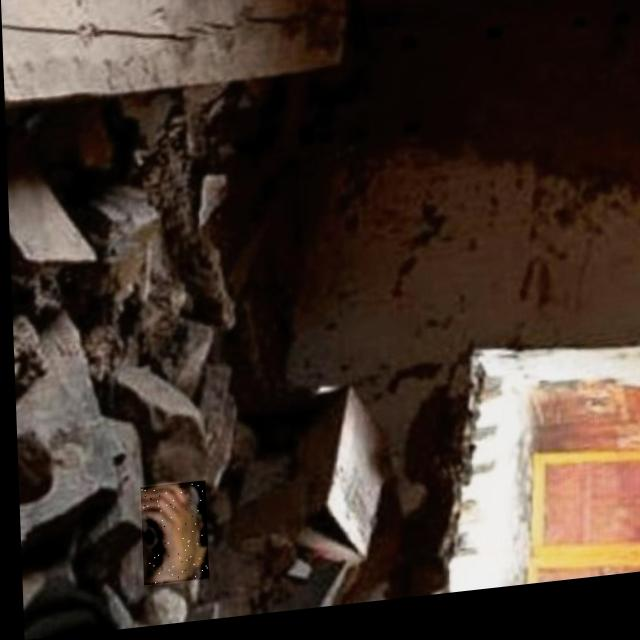Person in Rubble: (136, 485, 203, 588)
